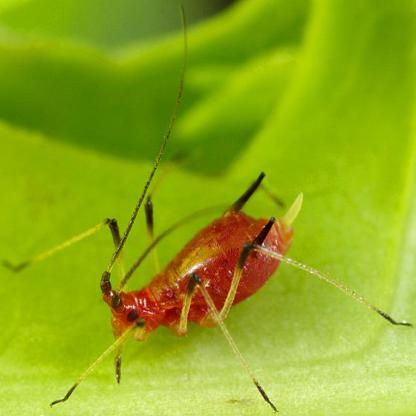uroleucon compositae: (102, 174, 304, 387)
